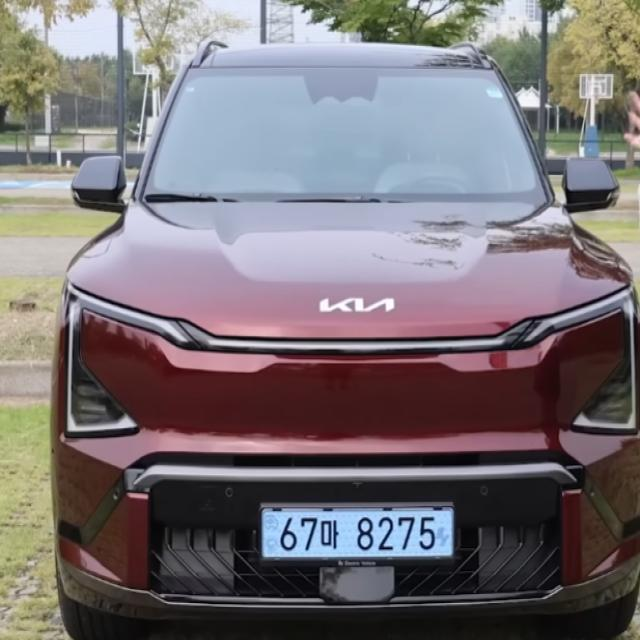car: (219, 479, 491, 590)
carev: (254, 498, 281, 567), (436, 504, 464, 568)
